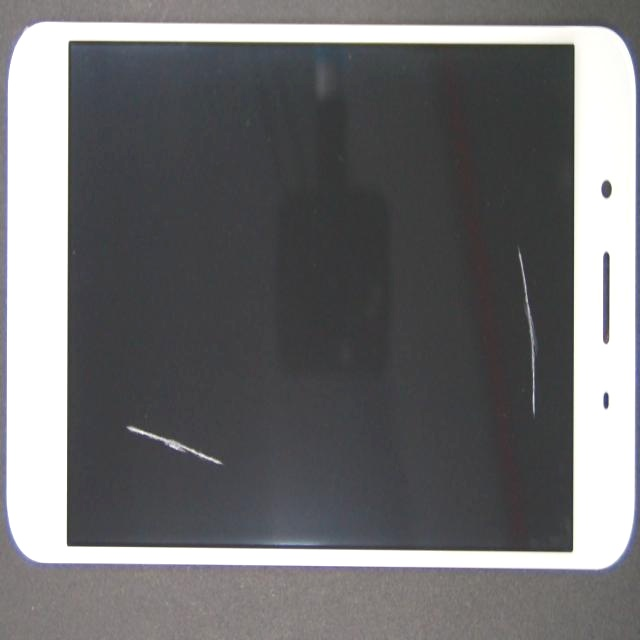scratch: (288, 329, 640, 544), (168, 244, 288, 640)
